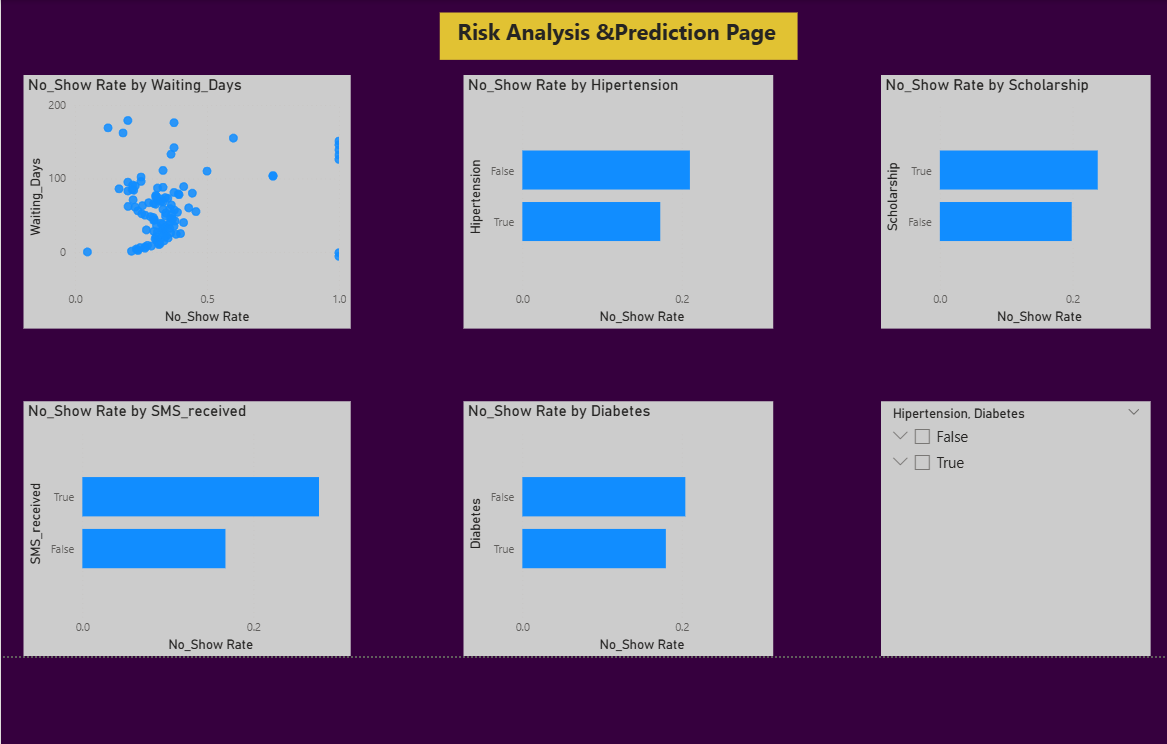

This screenshot's page, from the dashboard's own definition file:
{"tool":"powerbi","page":{"name":"Page 2","canvas":[1280,720],"ordinal":1},"visuals":[{"type":"scatterChart","fields":{"X":["healthcare_noshows.No_Show Rate"],"Y":["healthcare_noshows.Waiting_Days"]},"box":[24.7,82.3,359.5,278.6],"z":0},{"type":"clusteredBarChart","fields":{"Category":["healthcare_noshows.SMS_received"],"Y":["healthcare_noshows.No_Show Rate"]},"box":[24.7,440.5,359.5,279.9],"z":1000},{"type":"slicer","fields":{"Values":["healthcare_noshows.Hipertension","healthcare_noshows.Diabetes"]},"box":[966,440.5,296.4,279.9],"z":2000},{"type":"barChart","fields":{"Category":["healthcare_noshows.Hipertension"],"Y":["healthcare_noshows.No_Show Rate"]},"box":[507.7,82.3,340.3,278.6],"z":3000},{"type":"barChart","fields":{"Y":["healthcare_noshows.No_Show Rate"],"Category":["healthcare_noshows.Diabetes"]},"box":[507.7,440.5,340.3,279.9],"z":4000},{"type":"clusteredBarChart","fields":{"Y":["healthcare_noshows.No_Show Rate"],"Category":["healthcare_noshows.Scholarship"]},"box":[966,82.3,296.4,278.6],"z":5000},{"type":"textbox","box":[481.6,13.7,392.5,52.1],"z":6000}]}

Visuals, with their boxes in screenshot pixels (x1, y1, x2, y2):
scatterChart - healthcare_noshows.No_Show Rate x healthcare_noshows.Waiting_Days: <region>28, 77, 352, 328</region>
clusteredBarChart - healthcare_noshows.SMS_received x healthcare_noshows.No_Show Rate: <region>28, 399, 352, 651</region>
slicer - healthcare_noshows.Hipertension x healthcare_noshows.Diabetes: <region>875, 399, 1141, 651</region>
barChart - healthcare_noshows.Hipertension x healthcare_noshows.No_Show Rate: <region>463, 77, 769, 328</region>
barChart - healthcare_noshows.No_Show Rate x healthcare_noshows.Diabetes: <region>463, 399, 769, 651</region>
clusteredBarChart - healthcare_noshows.No_Show Rate x healthcare_noshows.Scholarship: <region>875, 77, 1141, 328</region>
textbox: <region>439, 15, 792, 62</region>
